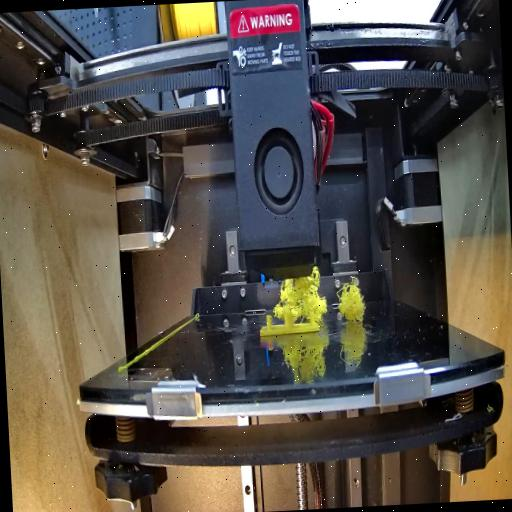spaghetti: (274, 268, 329, 322), (337, 278, 366, 326)
